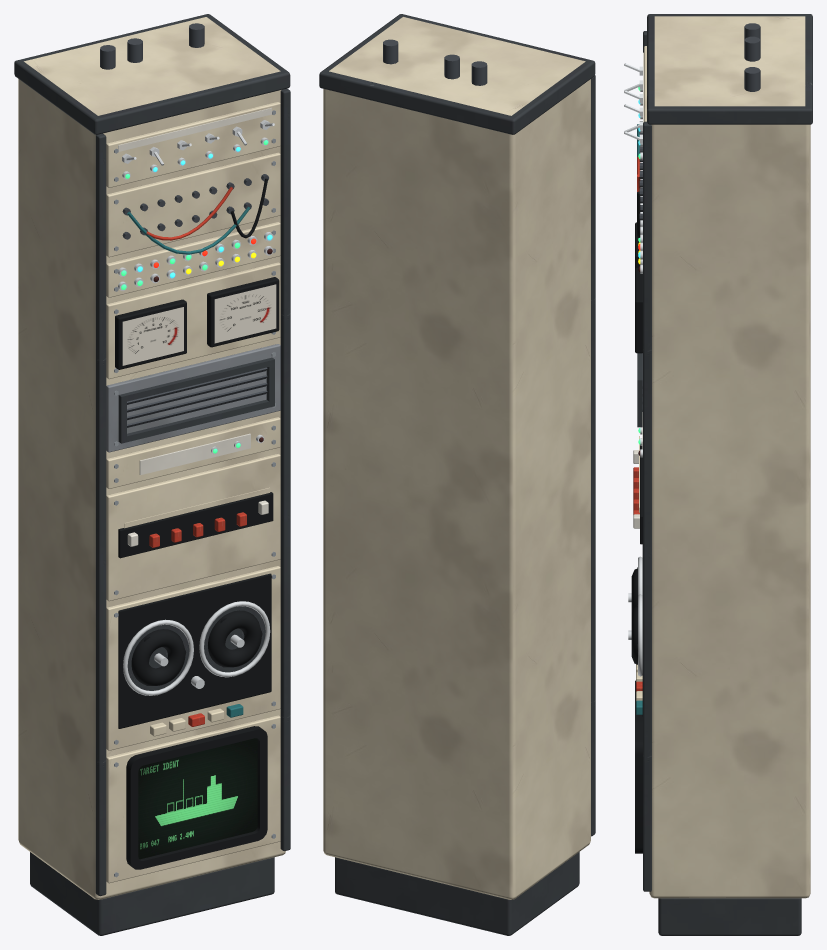
Rendered from Rack_50_2.glb.
3 renders of one model, left to right at view 1: azimuth 30°, elevation 25°; view 2: azimuth 150°, elevation 25°; view 3: azimuth 270°, elevation 25°, orthographic.
Parts seen in each view (by area): view 1: Rack_50_2_Body; view 2: Rack_50_2_Body; view 3: Rack_50_2_Body.
Part boxes in pixels (x1,y1,x2,y2): Rack_50_2_Body: (14, 14, 290, 935); Rack_50_2_Body: (319, 14, 595, 935); Rack_50_2_Body: (624, 14, 812, 935).
Bounding box in the file's own units: 0.51 × 2.1 × 0.4216.
19 materials, 9 textured.
